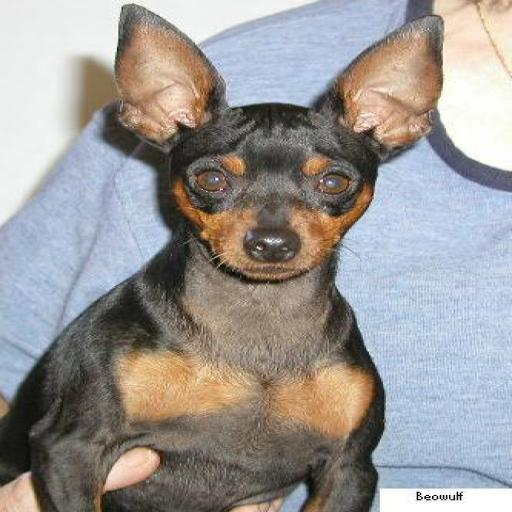dog_face: (108, 12, 474, 280)
